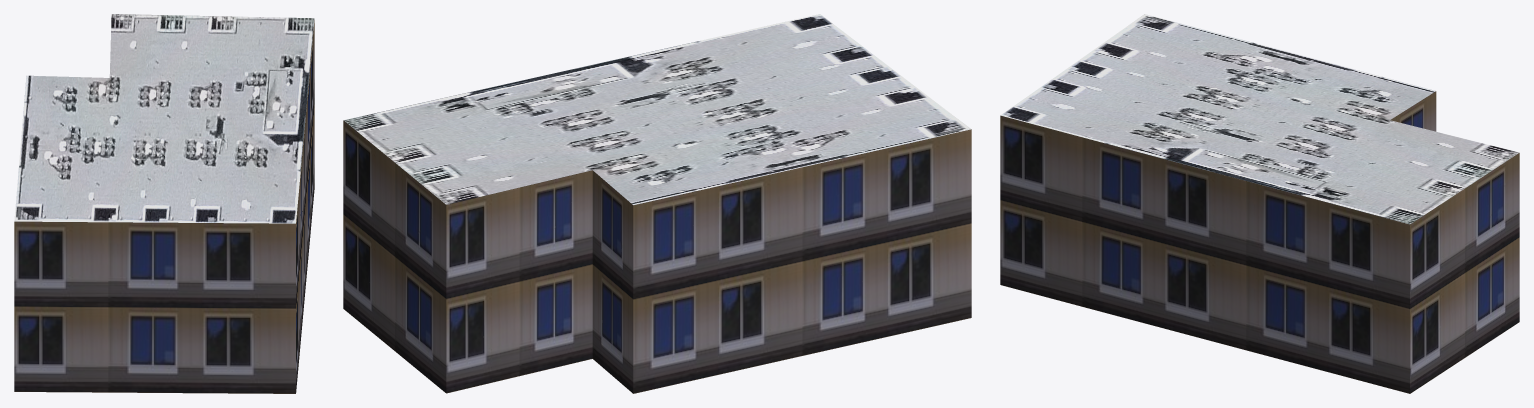
Rendered from ResTex__3091.fbx.
The picture shows the model from 3 angles, left to right: view 1: azimuth 30°, elevation 25°; view 2: azimuth 150°, elevation 25°; view 3: azimuth 270°, elevation 25°; orthographic projection. The views are drawn at different scales.
Visible parts, largest first — view 1: CityEngineMaterial_4_m, CityEngineMaterial_5_m; view 2: CityEngineMaterial_5_m, CityEngineMaterial_4_m; view 3: CityEngineMaterial_5_m, CityEngineMaterial_4_m.
Boxes of the visible parts, x1,y1,x2,y2 form: CityEngineMaterial_4_m: [14, 14, 314, 223]; CityEngineMaterial_5_m: [14, 20, 314, 393]; CityEngineMaterial_5_m: [343, 120, 971, 393]; CityEngineMaterial_4_m: [344, 14, 970, 205]; CityEngineMaterial_5_m: [1000, 91, 1519, 393]; CityEngineMaterial_4_m: [1000, 14, 1518, 224].
Size of the model in its own units: 15.99 by 6 by 16.67.
Materials: 2 (2 with a texture image).
